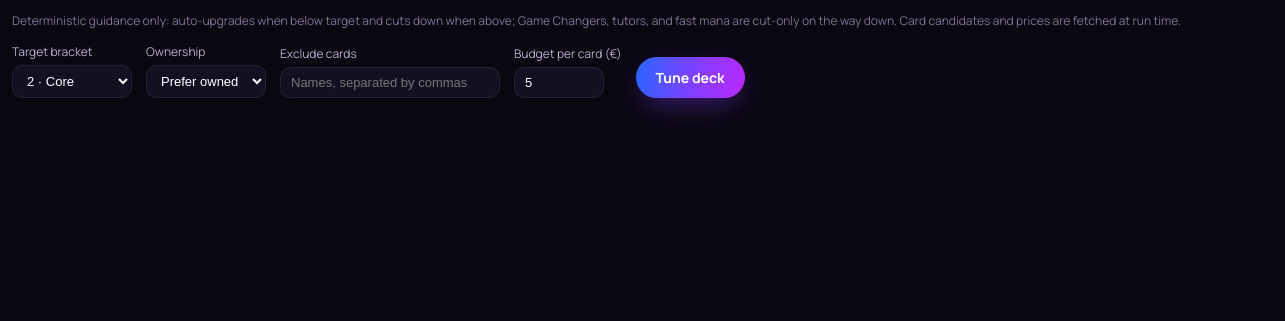
it: BracketTuner Pro explanation affordance › keeps the original deterministic explanation when the server falls back
Step 1. Click the button "Tune deck" → coordinates (690, 78), box x1=636 y1=57 x2=745 y2=98
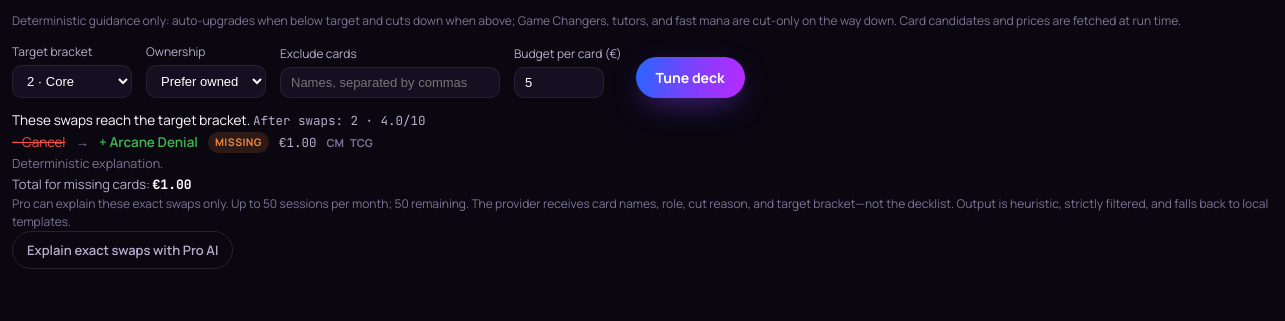
Step 2. Click the button "Explain exact swaps with Pro AI" → coordinates (123, 250), box x1=12 y1=231 x2=233 y2=269
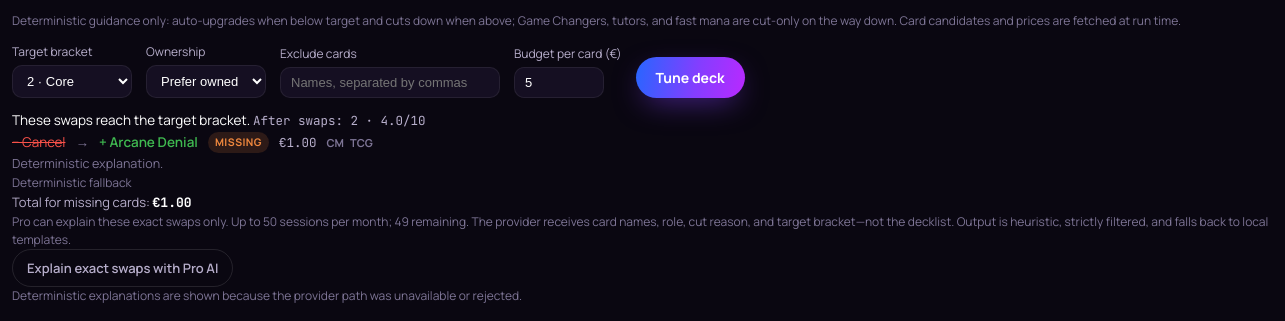
Result: the text "Deterministic explanation." is shown at x1=12 y1=155 x2=163 y2=172
Result: the text "provider path was unavailable or rejected" is shown at x1=12 y1=287 x2=522 y2=304
